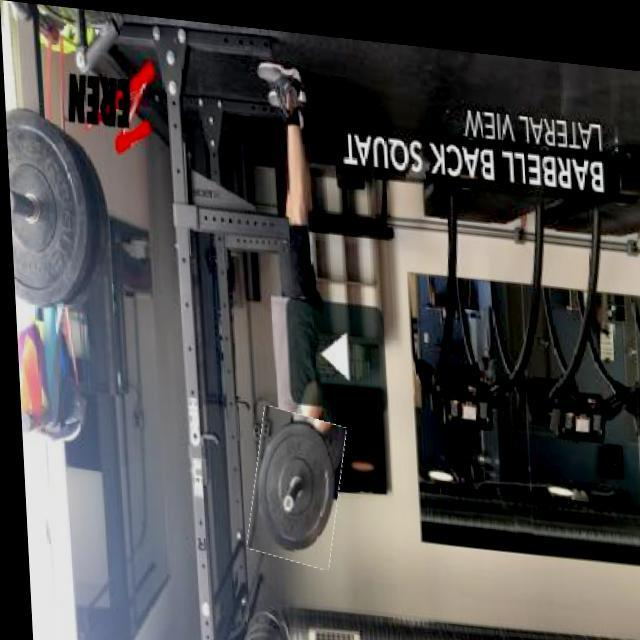barbell: (243, 401, 343, 563)
